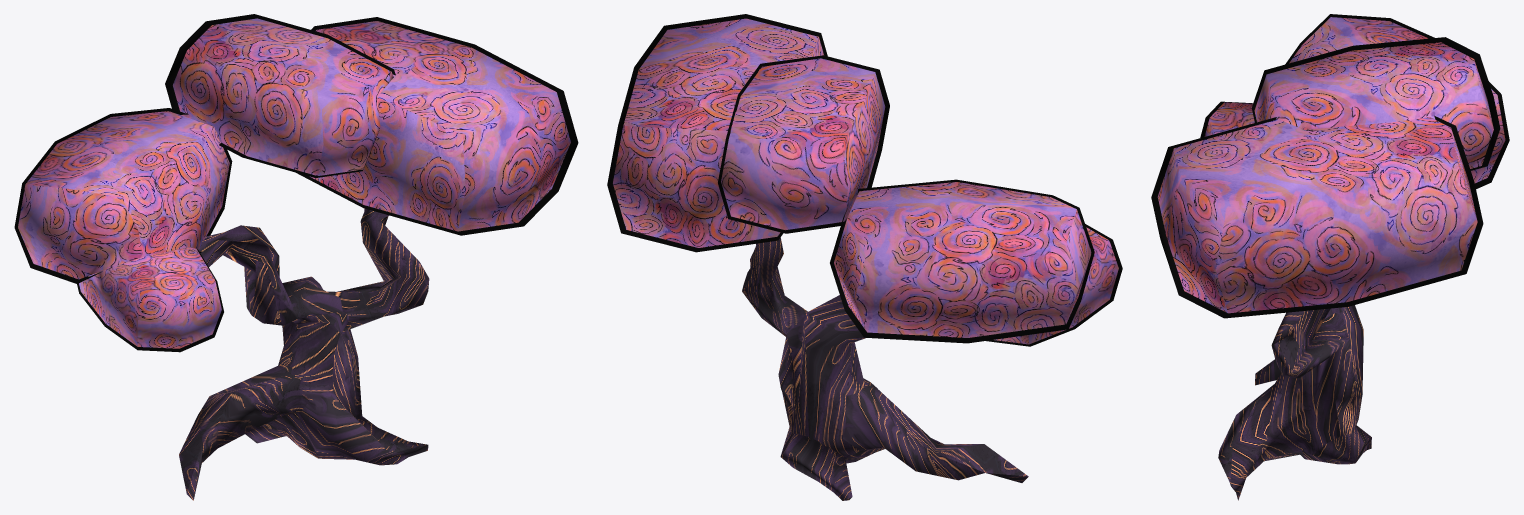
The model's file is s0_Tree_01__1__01.glb.
The picture shows the model from 3 angles, left to right: view 1: azimuth 30°, elevation 25°; view 2: azimuth 150°, elevation 25°; view 3: azimuth 270°, elevation 25°; orthographic projection. The views are drawn at different scales.
Visible parts, largest first — view 1: node_Tree_01 (1); view 2: node_Tree_01 (1); view 3: node_Tree_01 (1).
Boxes of the visible parts, <box> form: node_Tree_01 (1): <box>14,14,578,500</box>; node_Tree_01 (1): <box>607,14,1122,500</box>; node_Tree_01 (1): <box>1151,14,1509,500</box>.
Size of what is drawn, in the model's own units: 15.93 by 12.1 by 9.75.
Materials: 3 (2 with a texture image).
